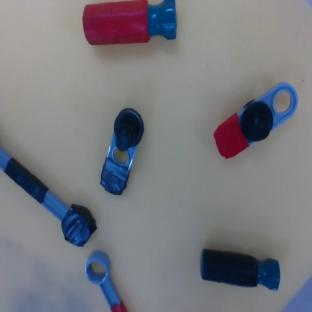part_1_bad: (94, 105, 149, 197)
part_1_good: (205, 77, 308, 164)
part_2_bad: (197, 248, 283, 292)
part_3_bad: (0, 141, 102, 250)
part_3_good: (79, 247, 127, 312)
